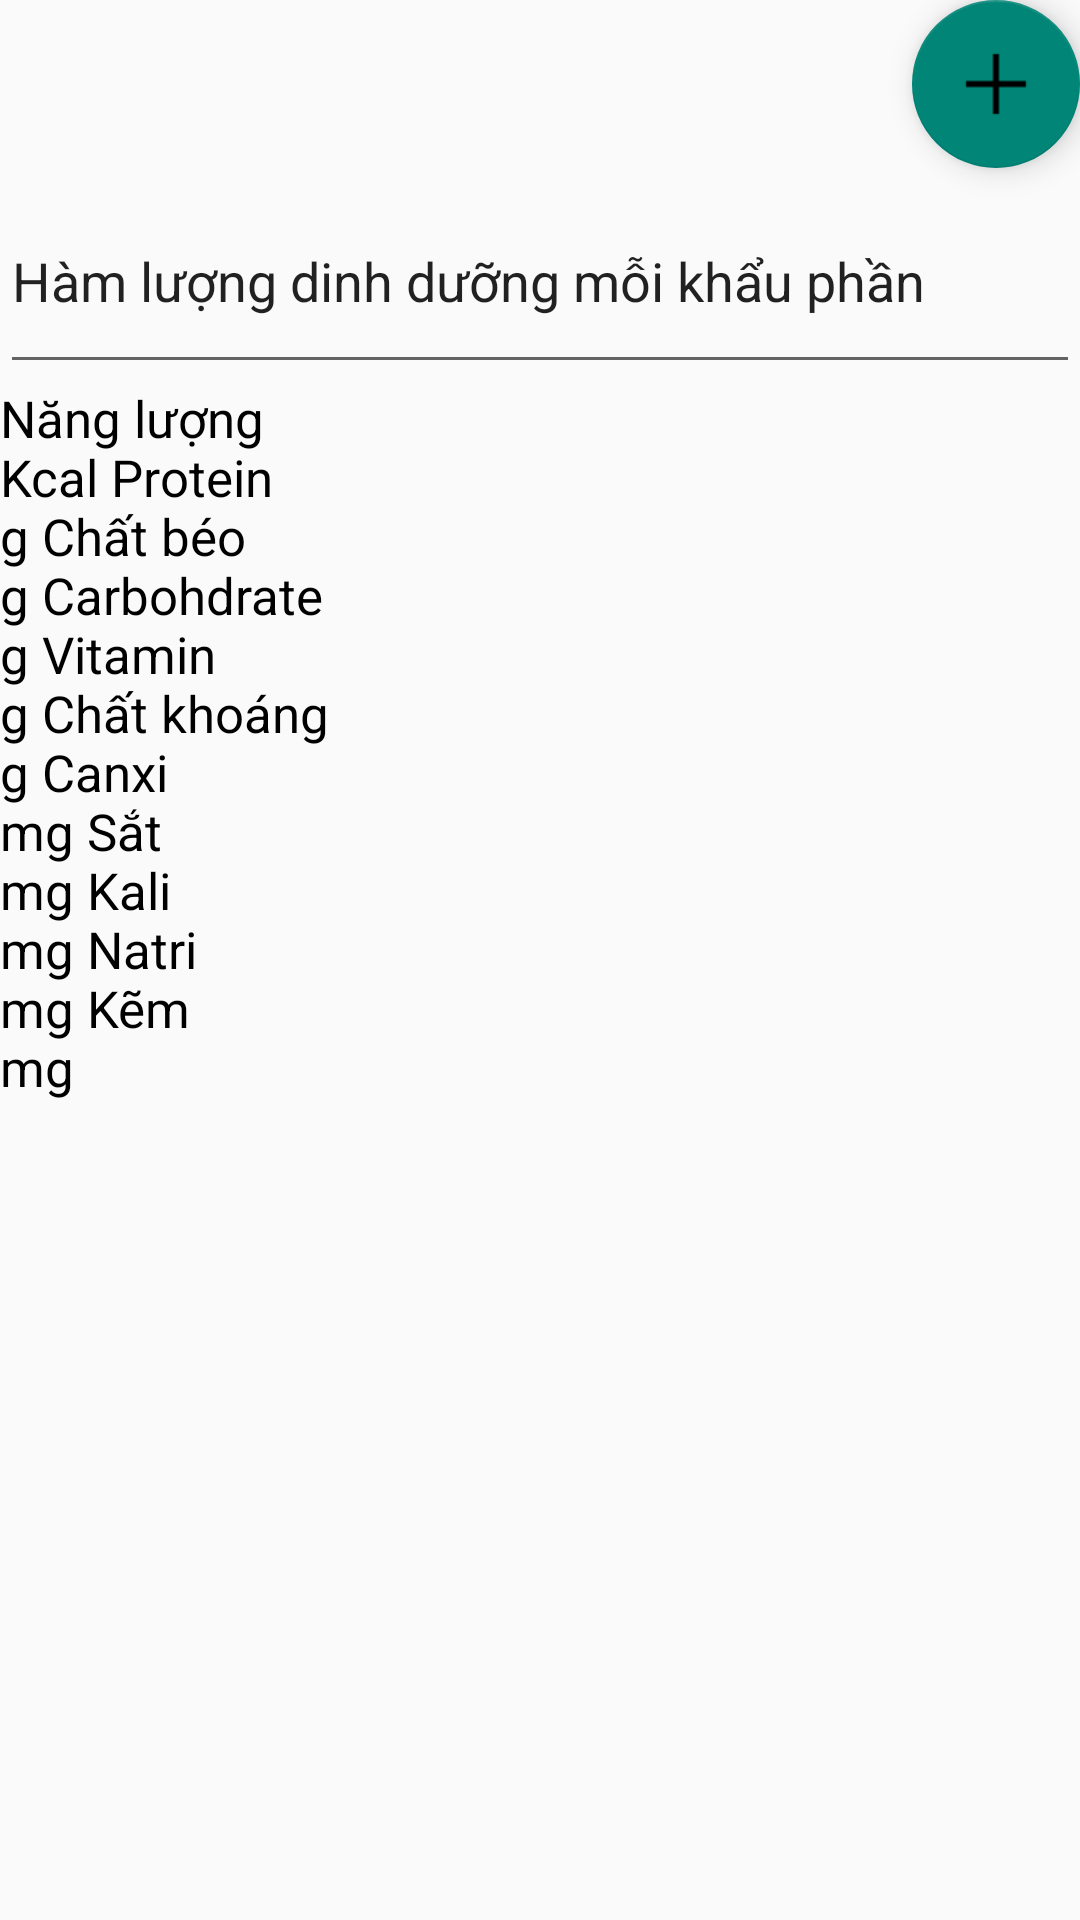

Icon click points for this 1080×1920 phone screenshot, format (x,y):
plus: (996,84)
